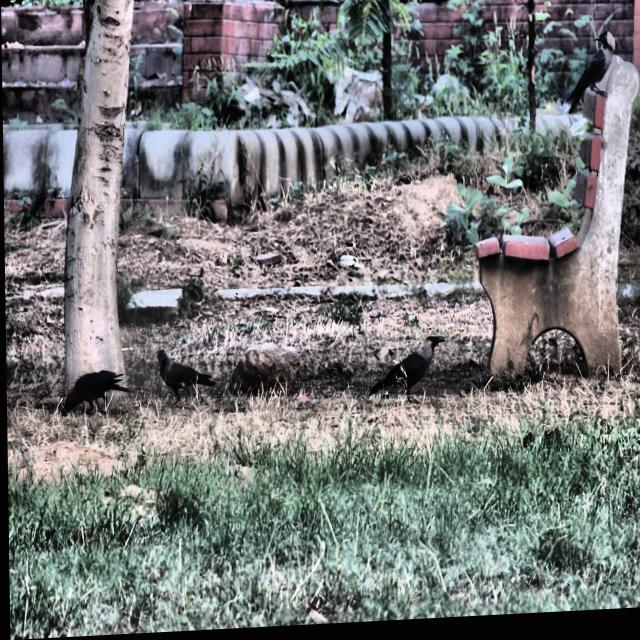crow: (353, 301, 441, 418), (143, 320, 212, 418), (43, 345, 124, 421)
